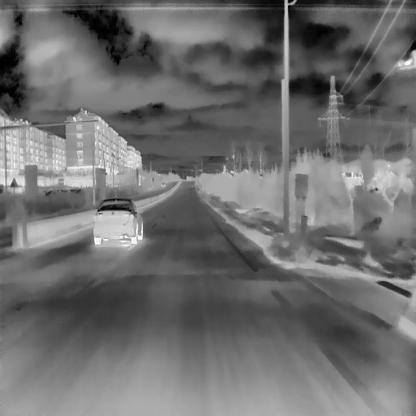car: (92, 196, 142, 244), (160, 181, 166, 187)
